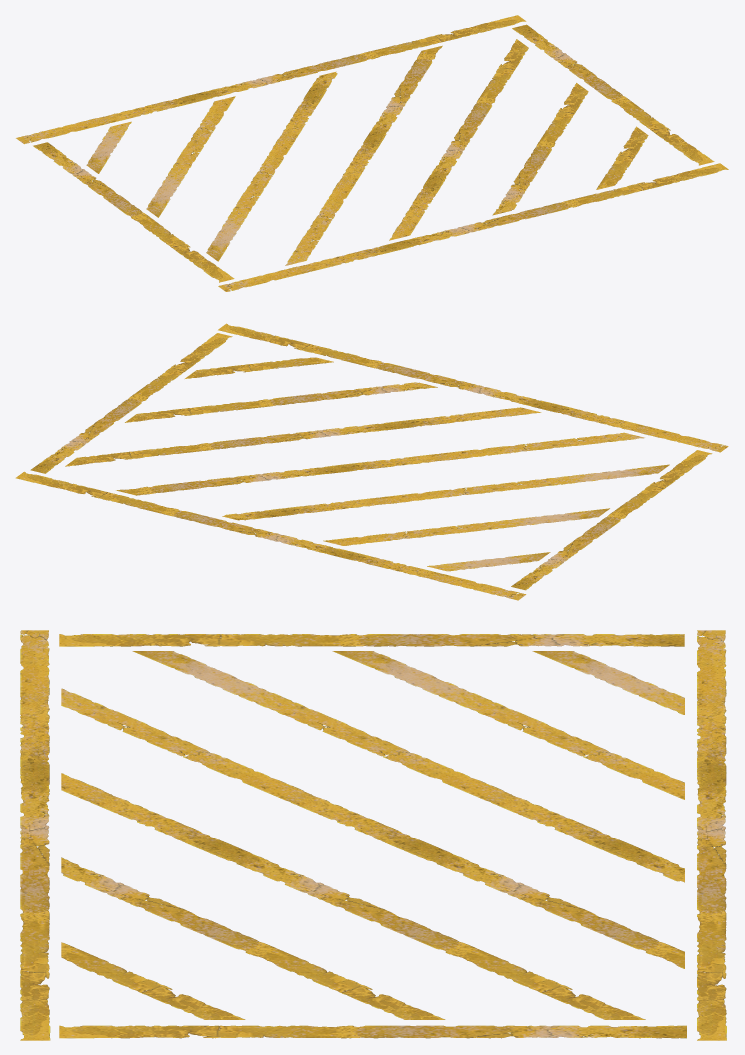
Rendered from CP_Diagonal_Hatch_Marking_03.fbx.
The picture shows the model from 3 angles, top to bottom: view 1: azimuth 30°, elevation 25°; view 2: azimuth 150°, elevation 25°; view 3: azimuth 270°, elevation 25°; orthographic projection. The views are drawn at different scales.
Visible parts, largest first — view 1: CP_Diagonal_Hatch_Marking_03; view 2: CP_Diagonal_Hatch_Marking_03; view 3: CP_Diagonal_Hatch_Marking_03.
Boxes of the visible parts, x1,y1,x2,y2 form: CP_Diagonal_Hatch_Marking_03: (16, 15, 728, 291); CP_Diagonal_Hatch_Marking_03: (15, 323, 728, 600); CP_Diagonal_Hatch_Marking_03: (20, 630, 726, 1040).
Bounding box in the file's own units: 421 × 0 × 311.
